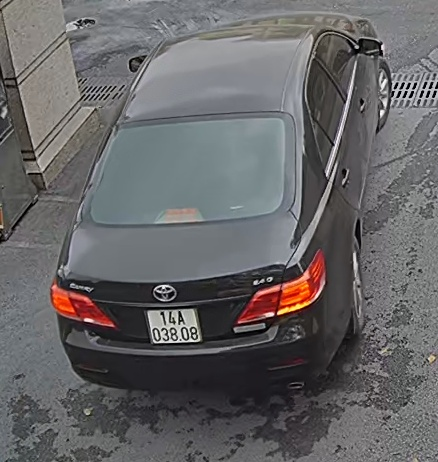vehicle plate: (142, 301, 206, 351)
